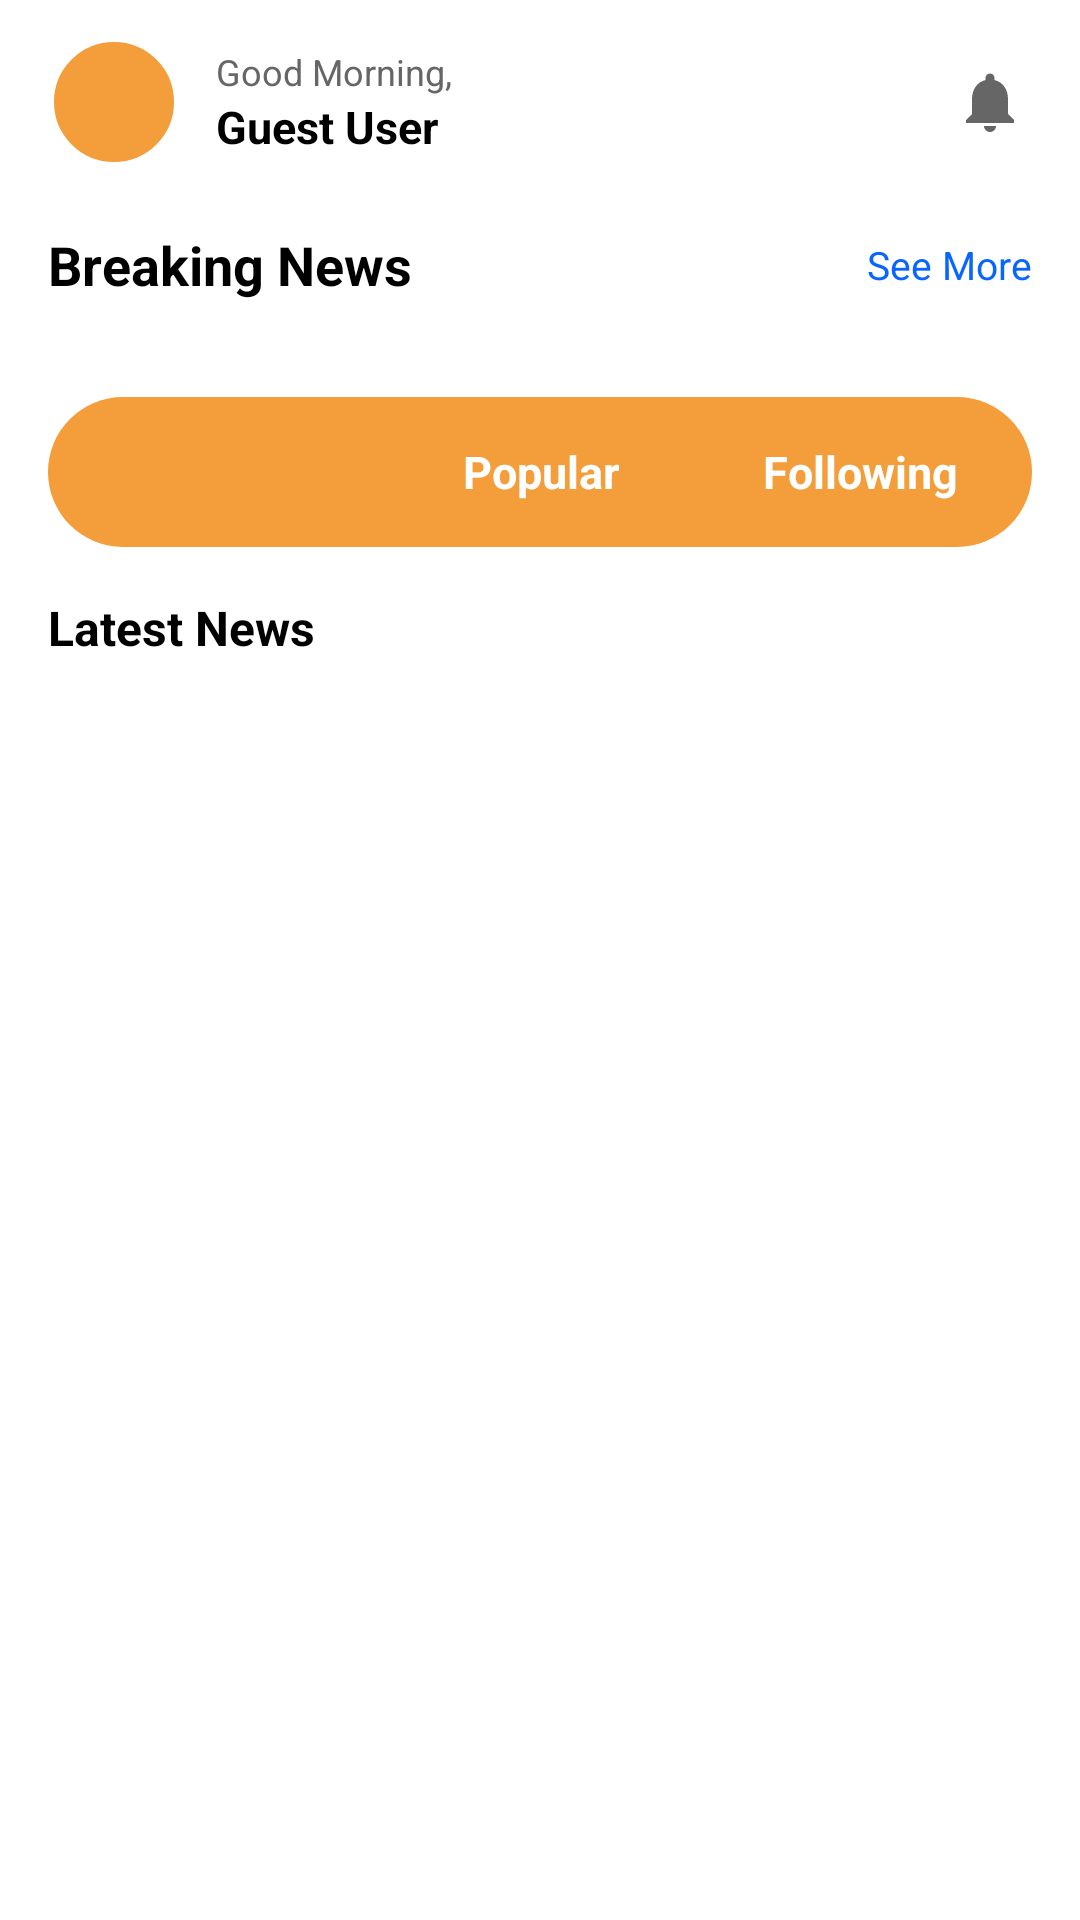

Locate icon controls on the screen. Image size 1080 × 1920, boxes as (x1, y1, x2, y2).
notification: (966, 73, 1014, 132)
